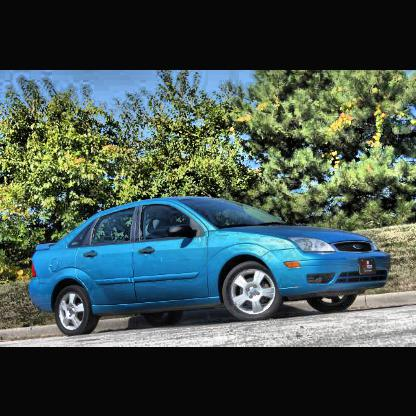Ford Focus Sedan 2007: (30, 197, 393, 336)
